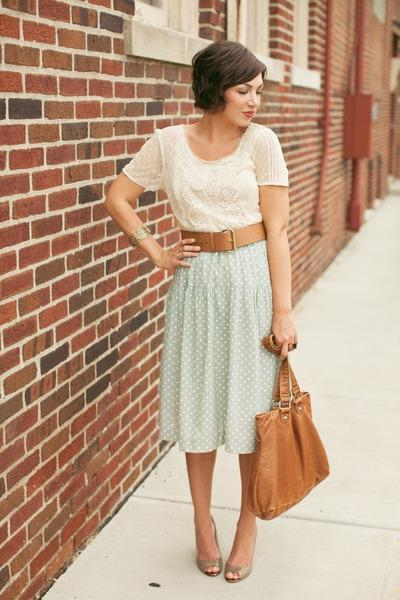short sleeve shirt: (122, 120, 292, 236)
skirt: (156, 222, 283, 456)
